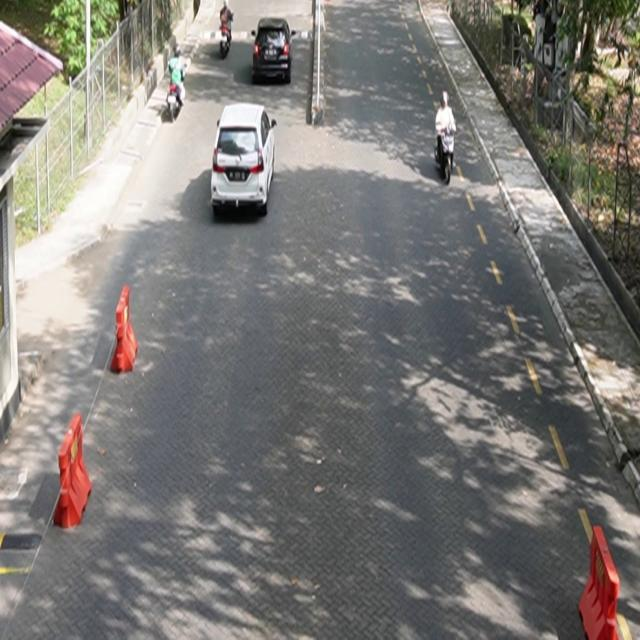car: (211, 103, 278, 217), (252, 18, 296, 85)
